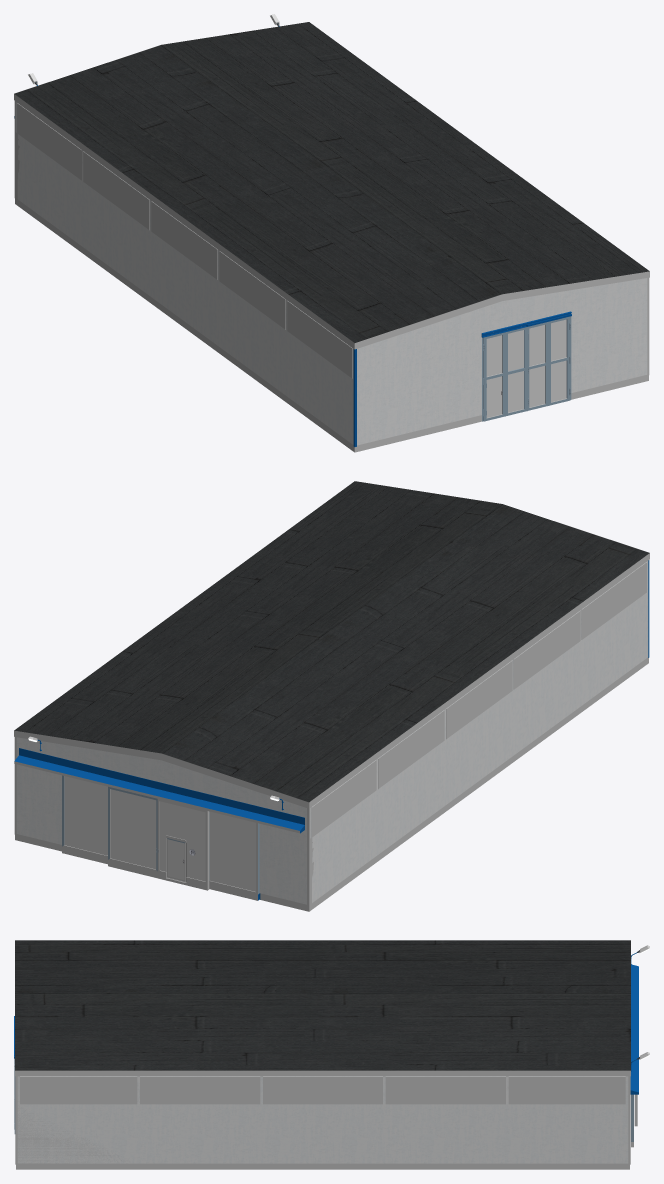
File: edap-hangar-b_LOD01.gltf
3 views of the same model, one above another, from view 1: azimuth 30°, elevation 25°; view 2: azimuth 150°, elevation 25°; view 3: azimuth 270°, elevation 25° (orthographic). The views are drawn at different scales.
Visible parts, largest first — view 1: roof.001, body.001, rear gate.001, roof decal.001, body decal.013, body decal.018; view 2: roof.001, body.001, roof decal.001, gate rails.003, gate CL.001, gate RR.001, gate LL.001, gate CR.001, body decal.013, gate CR decal.001, gate rails decal.002, gate RR decal.001; view 3: roof.001, body.001, roof decal.001, body decal.014, body decal.016, gate rails.003, body decal.018.
Boxes of the visible parts, left/top/right/bottom form: roof.001: left=14, top=22, right=649, bottom=342; body.001: left=15, top=101, right=647, bottom=445; rear gate.001: left=482, top=316, right=571, bottom=421; roof decal.001: left=14, top=94, right=649, bottom=349; body decal.013: left=83, top=247, right=354, bottom=452; body decal.018: left=354, top=375, right=648, bottom=452; roof.001: left=14, top=481, right=649, bottom=802; body.001: left=16, top=561, right=648, bottom=911; roof decal.001: left=14, top=553, right=649, bottom=808; gate rails.003: left=14, top=748, right=304, bottom=833; gate CL.001: left=108, top=786, right=157, bottom=871; gate RR.001: left=209, top=811, right=259, bottom=900; gate LL.001: left=62, top=775, right=107, bottom=855; gate CR.001: left=160, top=801, right=205, bottom=881; body decal.013: left=377, top=657, right=648, bottom=861; gate CR decal.001: left=157, top=799, right=209, bottom=890; gate rails decal.002: left=14, top=761, right=299, bottom=833; gate RR decal.001: left=209, top=812, right=257, bottom=900; roof.001: left=15, top=940, right=630, bottom=1070; body.001: left=17, top=1076, right=628, bottom=1163; roof decal.001: left=15, top=1070, right=630, bottom=1076; body decal.014: left=138, top=1163, right=629, bottom=1169; body decal.016: left=17, top=1107, right=129, bottom=1163; gate rails.003: left=630, top=964, right=638, bottom=1094; body decal.018: left=16, top=1163, right=138, bottom=1169.
Size of the model in its own units: 16.05 by 6.38 by 33.14.
